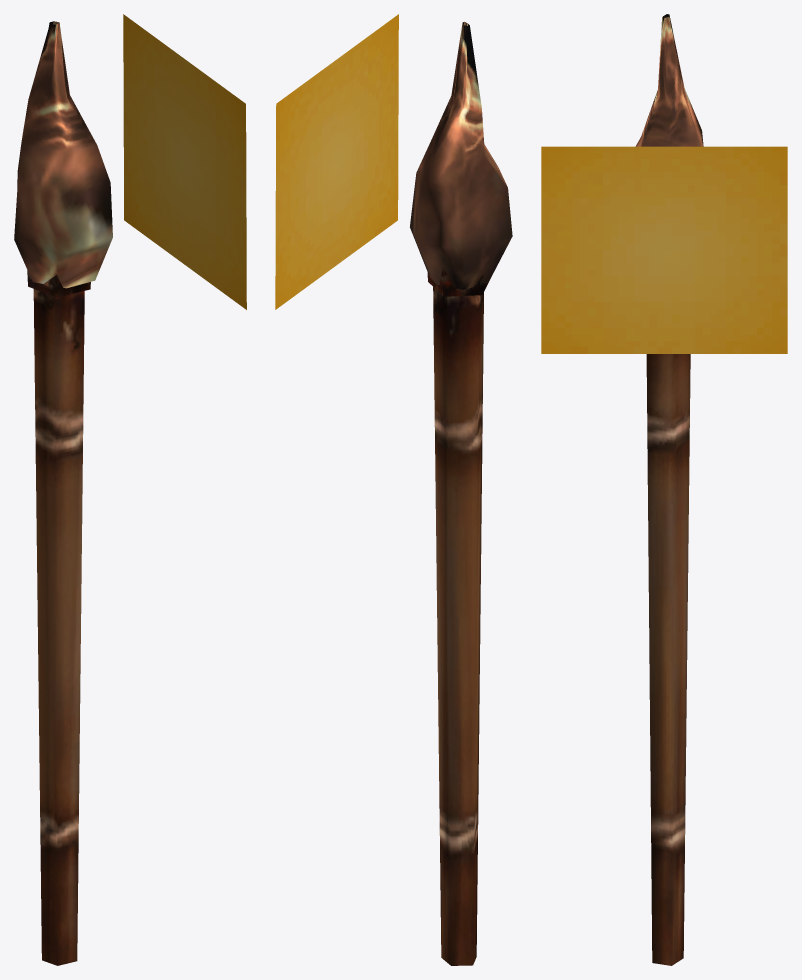
File: northrendgeneraltorch01.obj
3 renders of one model, left to right at view 1: azimuth 30°, elevation 25°; view 2: azimuth 150°, elevation 25°; view 3: azimuth 270°, elevation 25°, orthographic.
Visible parts, largest first — view 1: Geoset0, Geoset2, Geoset1; view 2: Geoset0, Geoset2, Geoset1; view 3: Geoset2, Geoset0, Geoset1.
Part boxes in pixels (bbox=[...]): Geoset0: bbox=[27, 270, 90, 965]; Geoset2: bbox=[123, 14, 246, 309]; Geoset1: bbox=[14, 21, 112, 288]; Geoset0: bbox=[427, 267, 489, 965]; Geoset2: bbox=[275, 14, 398, 309]; Geoset1: bbox=[410, 21, 512, 289]; Geoset2: bbox=[541, 146, 787, 353]; Geoset0: bbox=[646, 354, 690, 965]; Geoset1: bbox=[635, 14, 703, 146].
Size of the model in its own units: 0.5161 by 2.66 by 0.6318.
Materials: 3 (3 with a texture image).
